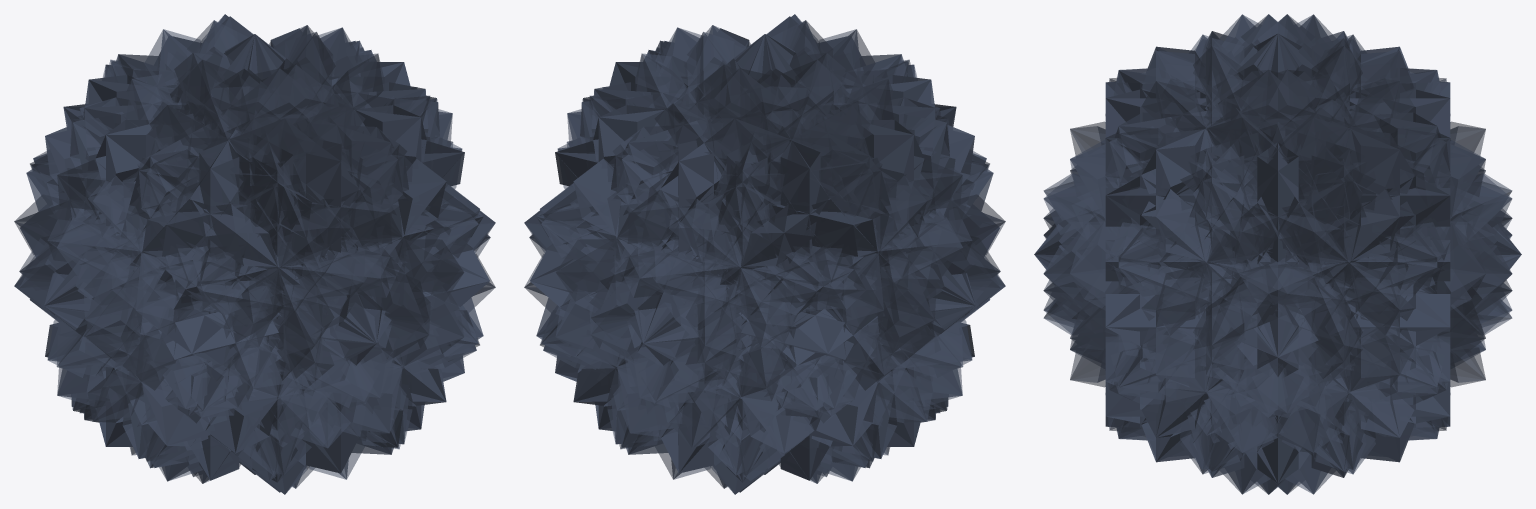
Rendered from iciclion.glb.
The picture shows the model from 3 angles, left to right: view 1: azimuth 30°, elevation 25°; view 2: azimuth 150°, elevation 25°; view 3: azimuth 270°, elevation 25°; orthographic projection.
Visible parts, largest first — view 1: Cylinder.003_0; view 2: Cylinder.003_0; view 3: Cylinder.003_0.
Boxes of the visible parts, bbox=[...] form: Cylinder.003_0: bbox=[14, 14, 495, 494]; Cylinder.003_0: bbox=[524, 14, 1005, 494]; Cylinder.003_0: bbox=[1034, 14, 1521, 494].
Size of the model in its own units: 21.21 by 21.21 by 21.21.
